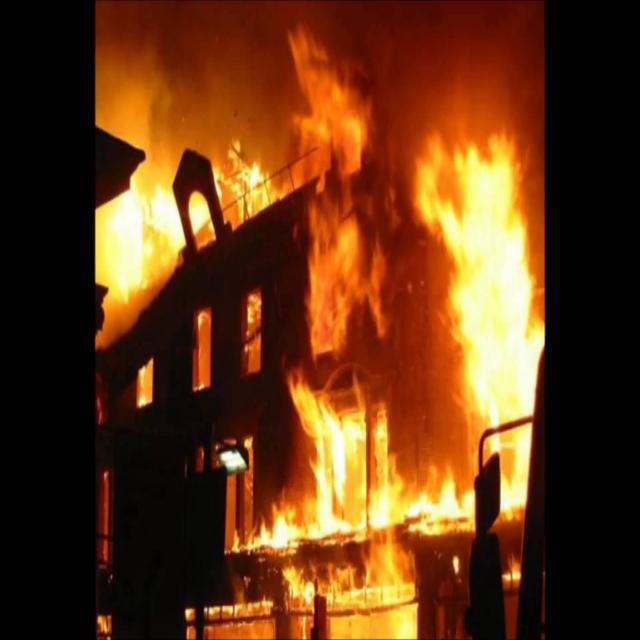Fire: (436, 124, 562, 502), (293, 380, 412, 541), (287, 30, 381, 183), (304, 198, 379, 353), (99, 172, 193, 285), (232, 506, 342, 587), (416, 487, 504, 580), (217, 139, 269, 218)
Smoke: (372, 1, 546, 124), (101, 20, 267, 144), (247, 282, 269, 354), (135, 357, 164, 410)
